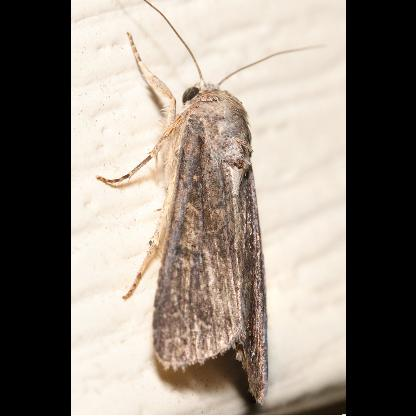Fall Armyworm Moth: (92, 0, 298, 410)
